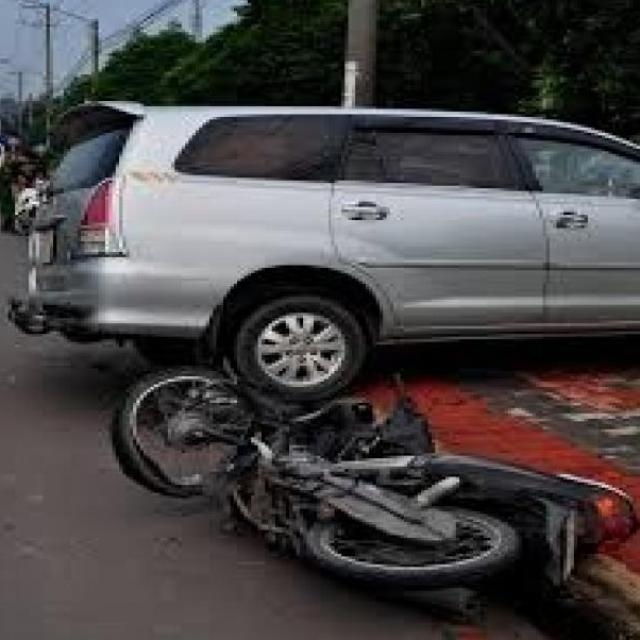accident: (86, 342, 640, 640)
